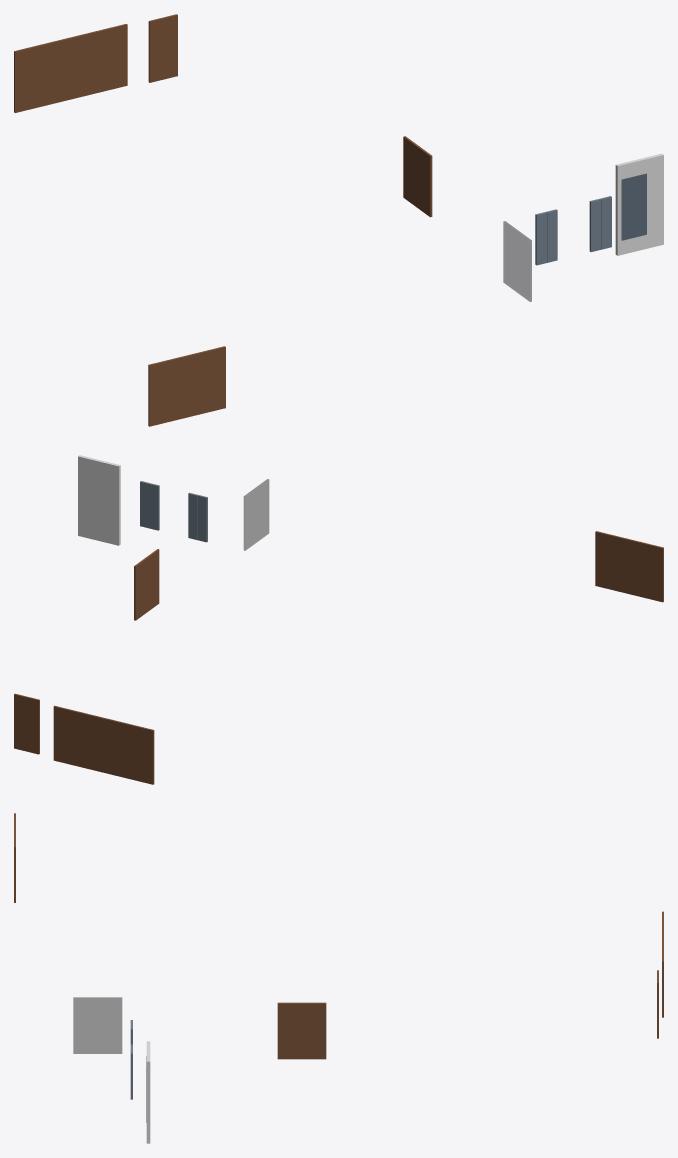
Rendered from blockingAreas.glb.
3 renders of one model, top to bottom at view 1: azimuth 30°, elevation 25°; view 2: azimuth 150°, elevation 25°; view 3: azimuth 270°, elevation 25°, orthographic. The views are drawn at different scales.
Parts seen in each view (by area): view 1: BlockAccess.005, BlockAccess.003, BlockAccess, BlockAccess.002, BlockAccess.004, BlockAccess.001, BlockAccess.006, LiftDoors.001, LiftDoors; view 2: BlockAccess.005, BlockAccess.003, BlockAccess, BlockAccess.001, BlockAccess.002, BlockAccess.004, LiftDoors.001, LiftDoors; view 3: BlockAccess.002, BlockAccess.001, BlockAccess.
Boxes of the visible parts, x1,y1,x2,y2 form: BlockAccess.005: [14, 24, 127, 112]; BlockAccess.003: [148, 346, 225, 426]; BlockAccess: [615, 153, 663, 255]; BlockAccess.002: [403, 136, 432, 217]; BlockAccess.004: [148, 14, 177, 82]; BlockAccess.001: [503, 221, 531, 301]; BlockAccess.006: [621, 173, 646, 240]; LiftDoors.001: [589, 196, 611, 252]; LiftDoors: [535, 209, 557, 265]; BlockAccess.005: [53, 705, 154, 784]; BlockAccess.003: [595, 531, 663, 602]; BlockAccess: [78, 455, 120, 545]; BlockAccess.001: [243, 479, 269, 550]; BlockAccess.002: [134, 549, 159, 620]; BlockAccess.004: [14, 693, 39, 754]; LiftDoors.001: [140, 481, 159, 530]; LiftDoors: [188, 492, 207, 542]; BlockAccess.002: [277, 1002, 326, 1059]; BlockAccess.001: [73, 997, 122, 1053]; BlockAccess: [146, 1041, 150, 1143].
Bounding box in the file's own units: 28.31 × 4.13 × 29.73.
Materials: 2 (1 with a texture image).
